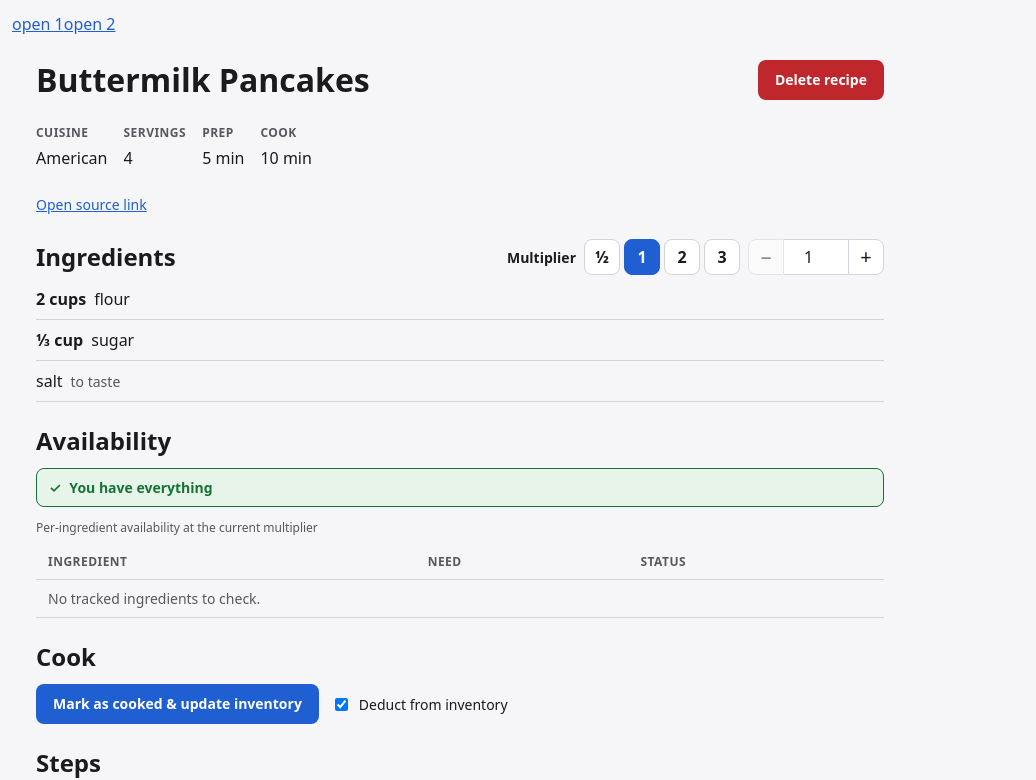
Test case: RecipeDetail multiplier › resets to 1 on every visit to the screen
Expected: the heading "Buttermilk Pancakes" is shown, [36,60,370,100]
Click the button "3". click: (722, 257)
box: [704,239,740,275]
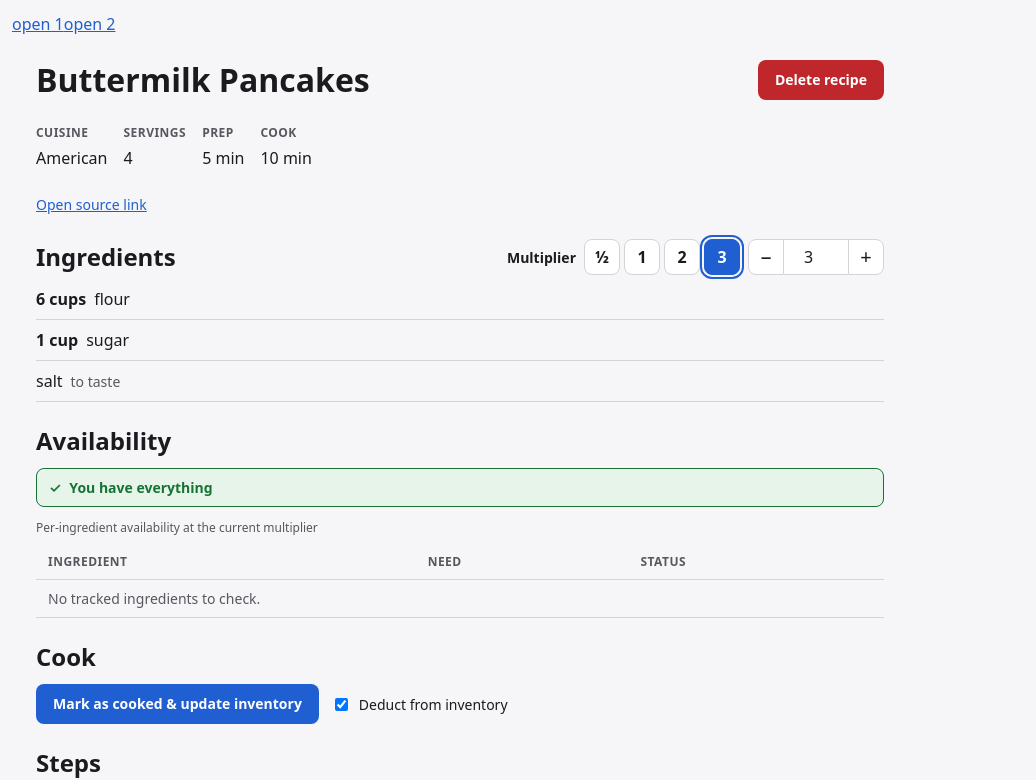
Result: the number field named "Exact value" holds "3" at [784,239,848,275]
Click the link "open 2". click: (90, 24)
box: [64,13,116,35]
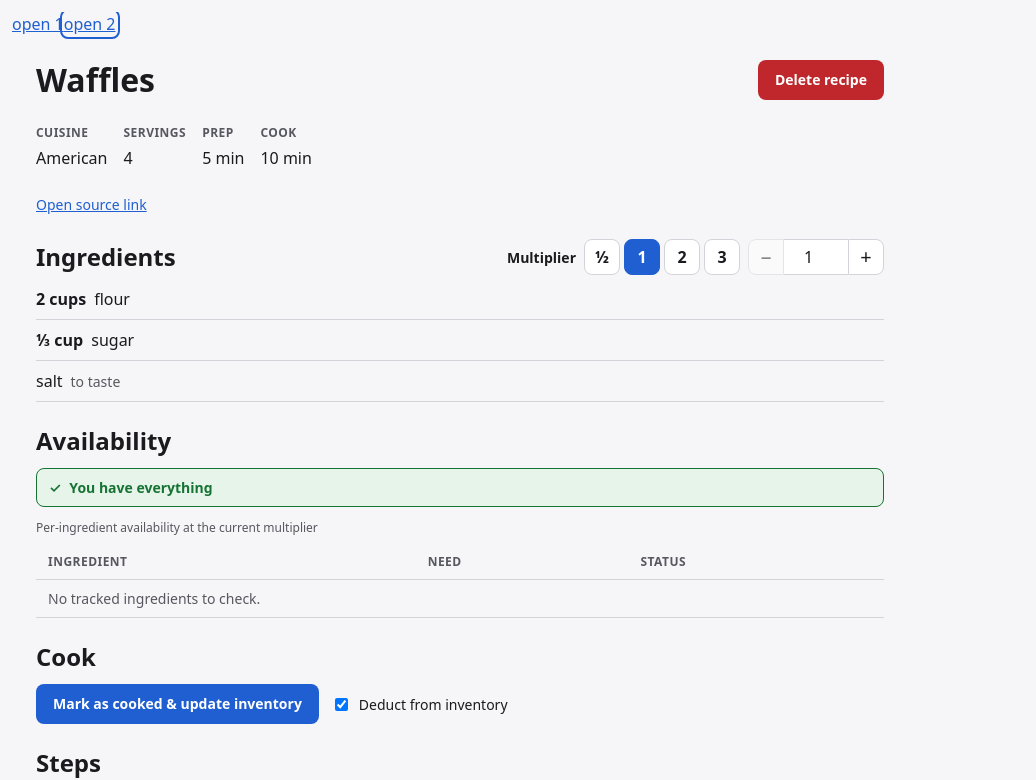
Result: the heading "Waffles" is shown at [36,60,155,100]
Result: the number field named "Exact value" holds "1" at [784,239,848,275]
Result: the list item "2 cups flour" is shown at [36,287,884,320]
